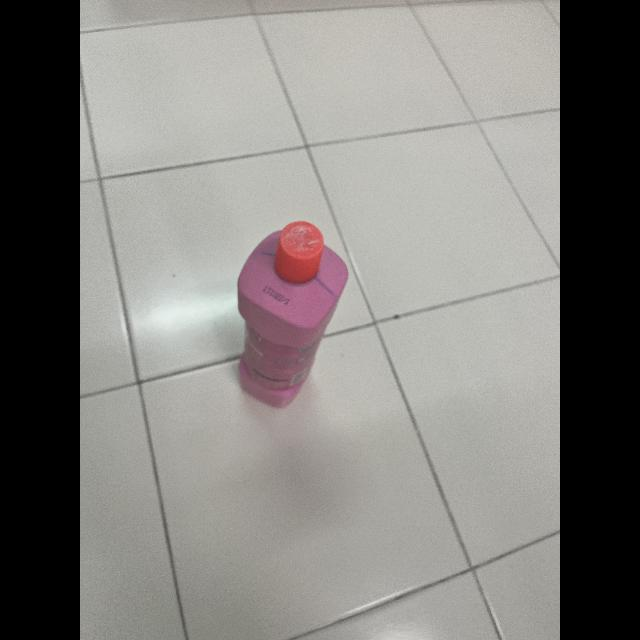chemical_plastic_bottle: (231, 213, 353, 413)
